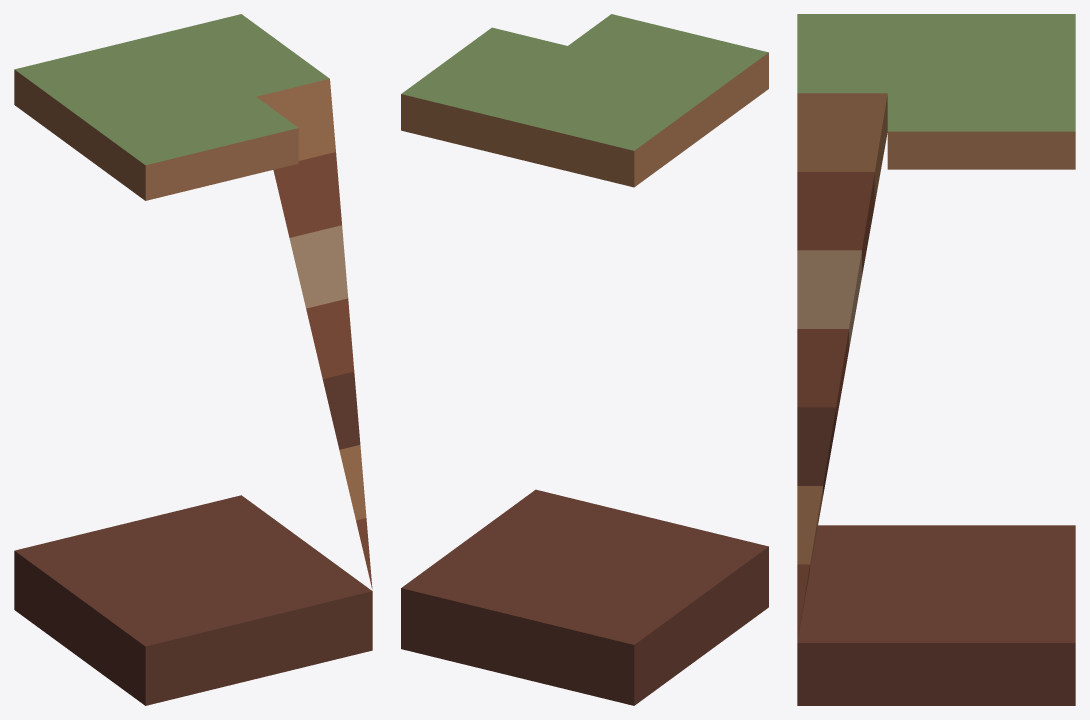
Rendered from t_gorge_corner_in.glb.
The picture shows the model from 3 angles, left to right: view 1: azimuth 30°, elevation 25°; view 2: azimuth 150°, elevation 25°; view 3: azimuth 270°, elevation 25°; orthographic projection. The views are drawn at different scales.
Visible parts, largest first — view 1: t_gorge_corner_in; view 2: t_gorge_corner_in; view 3: t_gorge_corner_in.
Part boxes in pixels (x1,y1,x2,y2): t_gorge_corner_in: [14, 14, 372, 705]; t_gorge_corner_in: [401, 14, 768, 705]; t_gorge_corner_in: [797, 14, 1075, 705].
Size of the model in its own units: 2 by 4.55 by 2.
